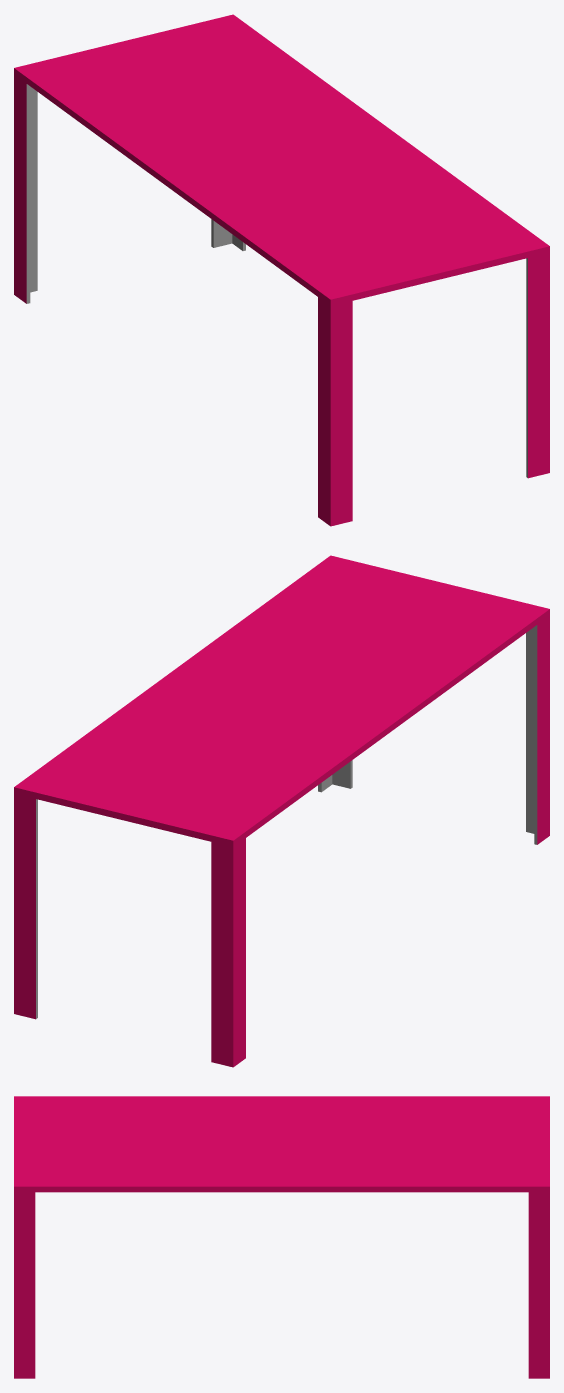
File: PaperThinTable.fbx
3 renders of one model, top to bottom at view 1: azimuth 30°, elevation 25°; view 2: azimuth 150°, elevation 25°; view 3: azimuth 270°, elevation 25°, orthographic. The views are drawn at different scales.
Visible parts, largest first — view 1: pCube181; view 2: pCube181; view 3: pCube181.
Boxes of the visible parts, x1=… form: pCube181: x1=14, y1=14, x2=549, y2=526; pCube181: x1=14, y1=555, x2=549, y2=1067; pCube181: x1=14, y1=1096, x2=549, y2=1378.
Size of the model in its own units: 10 by 9.88 by 25.
